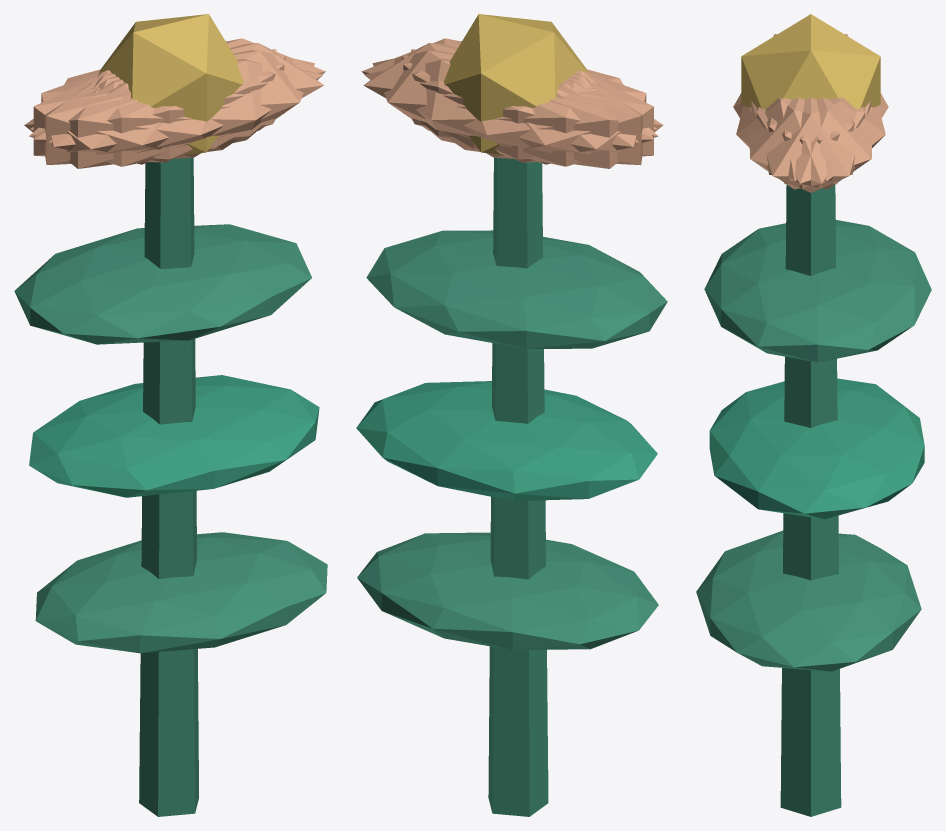
Rendered from strobilanthes-alternata.glb.
3 renders of one model, left to right at view 1: azimuth 30°, elevation 25°; view 2: azimuth 150°, elevation 25°; view 3: azimuth 270°, elevation 25°, orthographic.
Visible parts, largest first — view 1: leaf2, leaf0, leaf1, stem, center, petal1, petal6, petal2, petal5, petal7, petal0, petal4 (+2 smaller); view 2: leaf2, leaf1, leaf0, stem, center, petal8, petal3, petal7, petal4, petal2, petal0, petal5 (+2 smaller); view 3: leaf2, leaf0, leaf1, stem, center, petal0, petal5, petal4, petal1, petal8.
Boxes of the visible parts, left/top/right/bottom form: leaf2: left=14, top=224, right=311, bottom=344; leaf0: left=35, top=532, right=327, bottom=653; leaf1: left=29, top=375, right=319, bottom=497; stem: left=139, top=158, right=198, bottom=816; center: left=98, top=14, right=243, bottom=154; petal1: left=29, top=58, right=322, bottom=166; petal6: left=24, top=72, right=237, bottom=168; petal2: left=45, top=49, right=276, bottom=164; petal5: left=49, top=50, right=314, bottom=159; petal7: left=33, top=55, right=285, bottom=162; petal0: left=98, top=43, right=323, bottom=148; petal4: left=30, top=38, right=325, bottom=139; leaf2: left=366, top=230, right=667, bottom=348; leaf1: left=356, top=381, right=657, bottom=500; leaf0: left=357, top=532, right=658, bottom=650; stem: left=488, top=158, right=548, bottom=816; center: left=444, top=14, right=588, bottom=154; petal8: left=364, top=58, right=658, bottom=166; petal3: left=450, top=72, right=663, bottom=168; petal7: left=411, top=49, right=642, bottom=165; petal4: left=372, top=50, right=638, bottom=159; petal2: left=402, top=55, right=653, bottom=162; petal0: left=363, top=43, right=589, bottom=148; petal5: left=361, top=38, right=657, bottom=139; leaf2: left=704, top=220, right=931, bottom=362; leaf0: left=696, top=530, right=921, bottom=671; leaf1: left=709, top=378, right=924, bottom=519; stem: left=780, top=184, right=841, bottom=816; center: left=741, top=14, right=880, bottom=109; petal0: left=751, top=98, right=870, bottom=192; petal5: left=749, top=98, right=865, bottom=189; petal4: left=756, top=98, right=872, bottom=189; petal1: left=736, top=97, right=854, bottom=181; petal8: left=767, top=97, right=885, bottom=181.
Size of the model in its own units: 0.1452 by 0.3741 by 0.1036.
